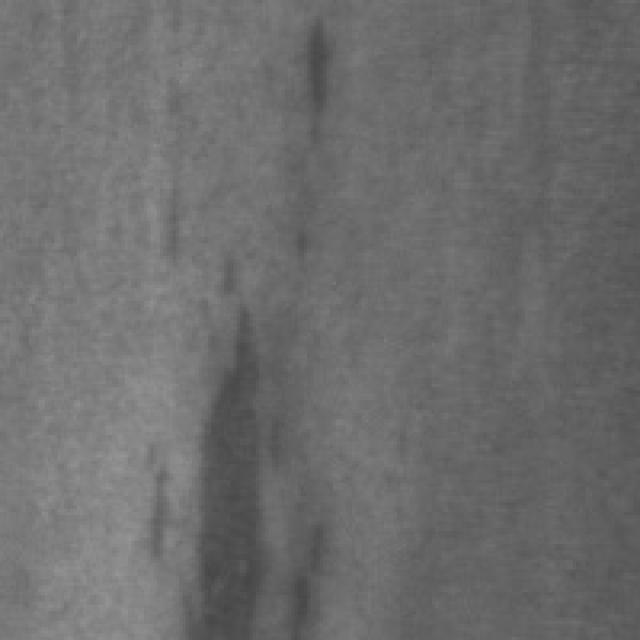inclusion: (131, 250, 339, 630), (275, 0, 339, 147)
